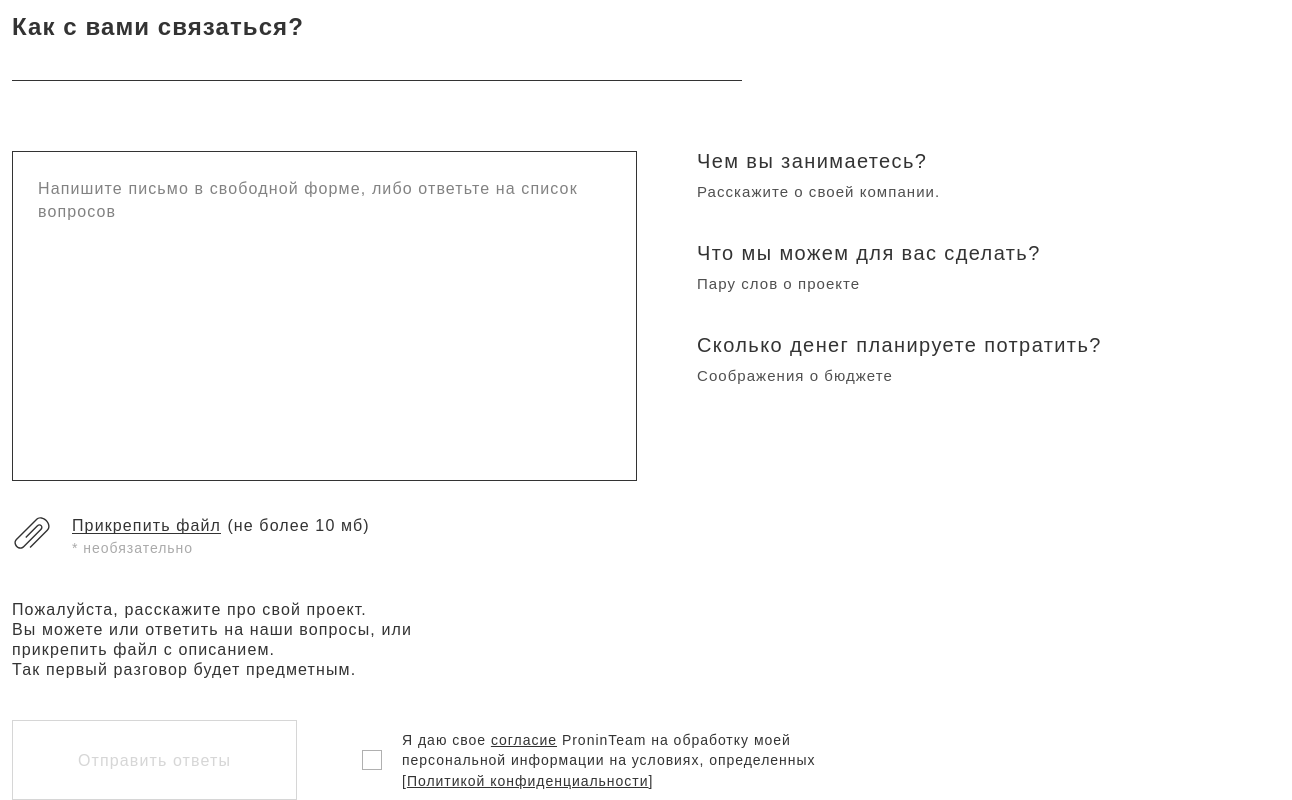
Submit Button › is disabled, if checkbox unchecked
(page scrolled)
Check: the button with test id "submitBtn" is disabled, box left=12, top=720, right=297, bottom=799
Click the checkbox with test id "agreeCheck": click(372, 760) left=362, top=750, right=382, bottom=770
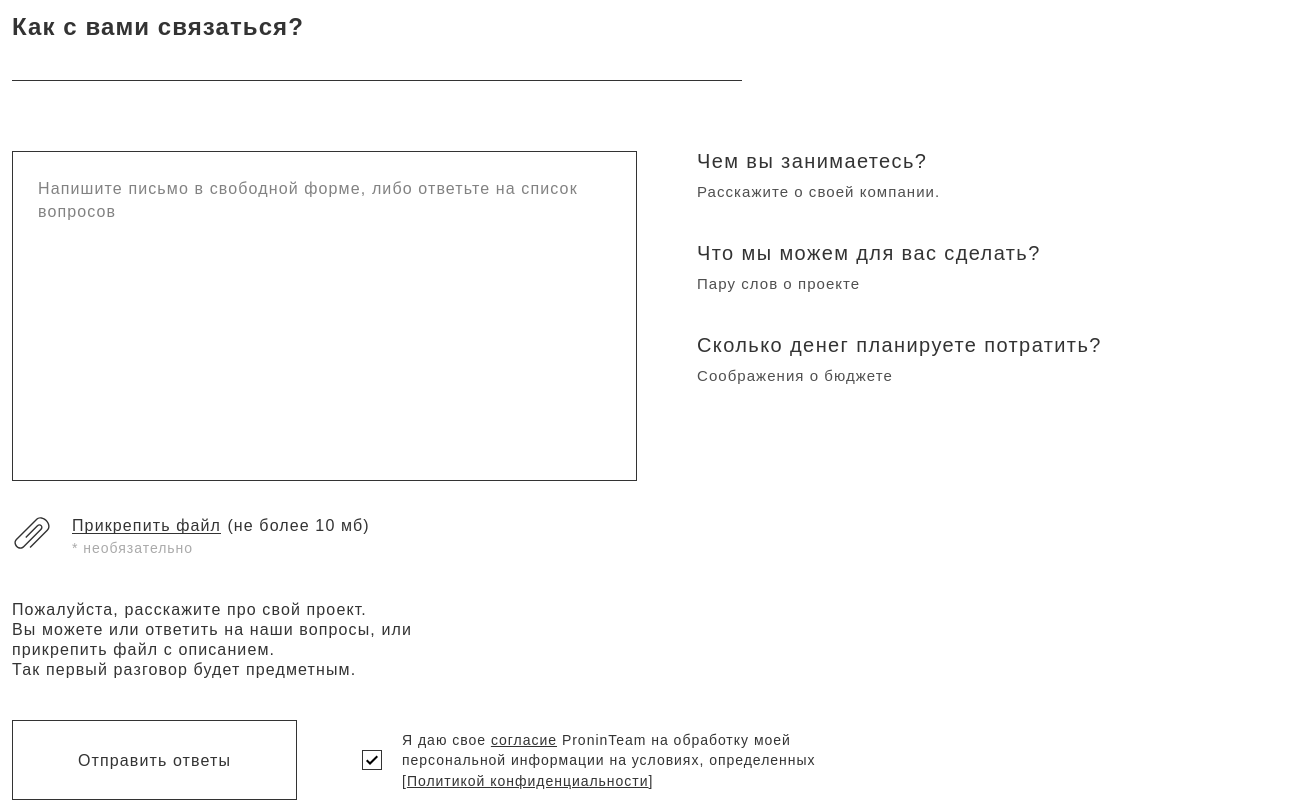
Click the checkbox with test id "agreeCheck": click(372, 760) left=362, top=750, right=382, bottom=770
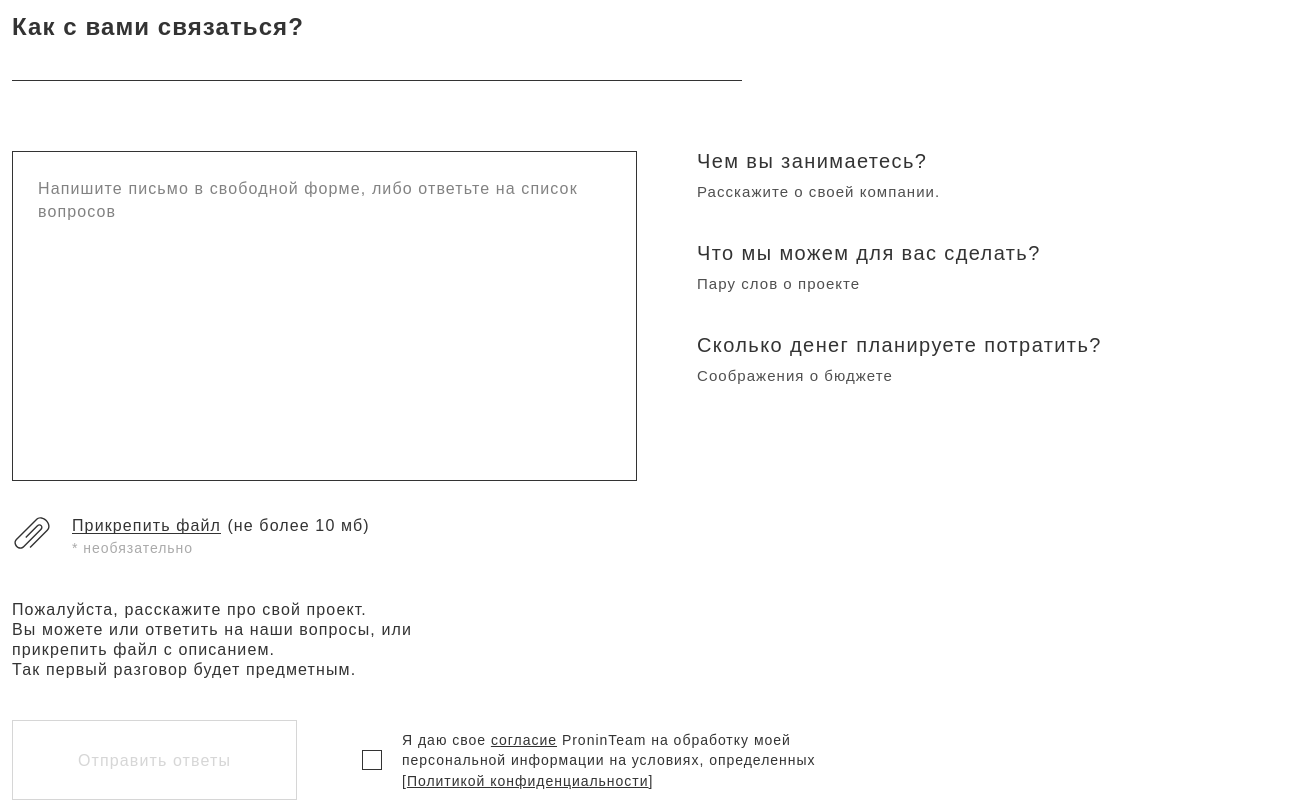
Check: the button with test id "submitBtn" is disabled, box left=12, top=720, right=297, bottom=799
